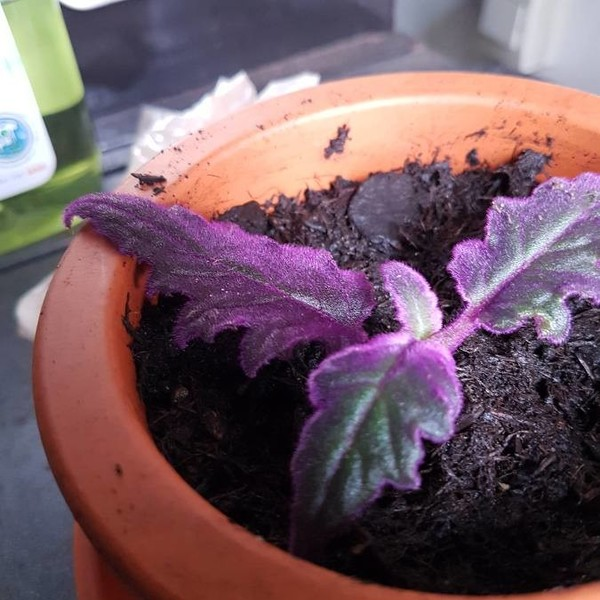obstacle: (59, 88, 573, 584)
